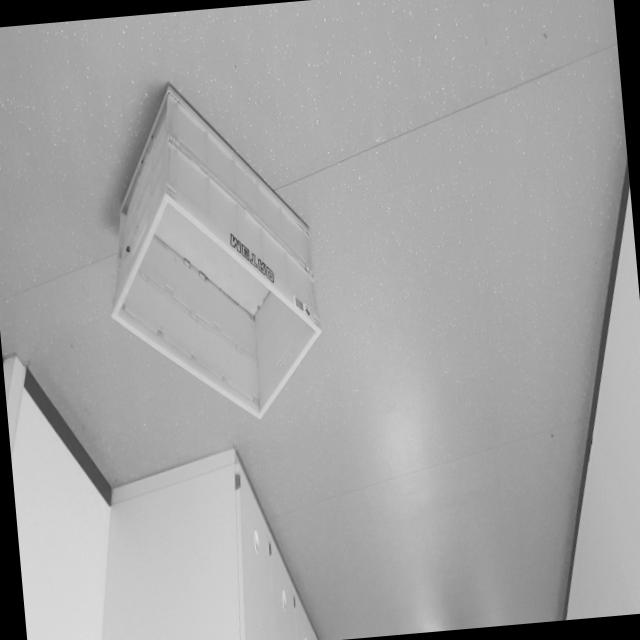box: (73, 28, 338, 440)
